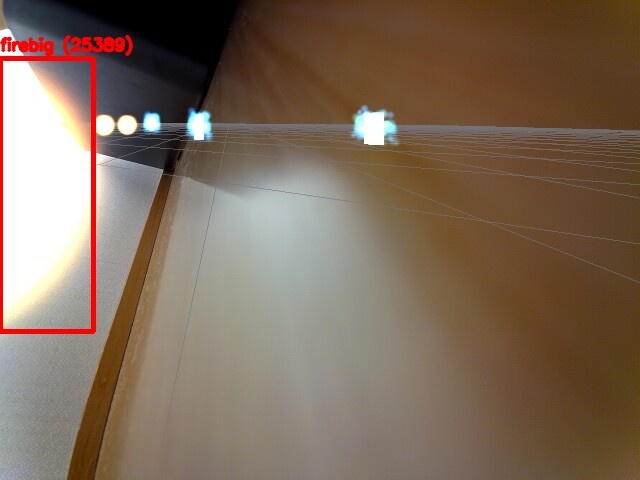firebig: (0, 58, 93, 331)
